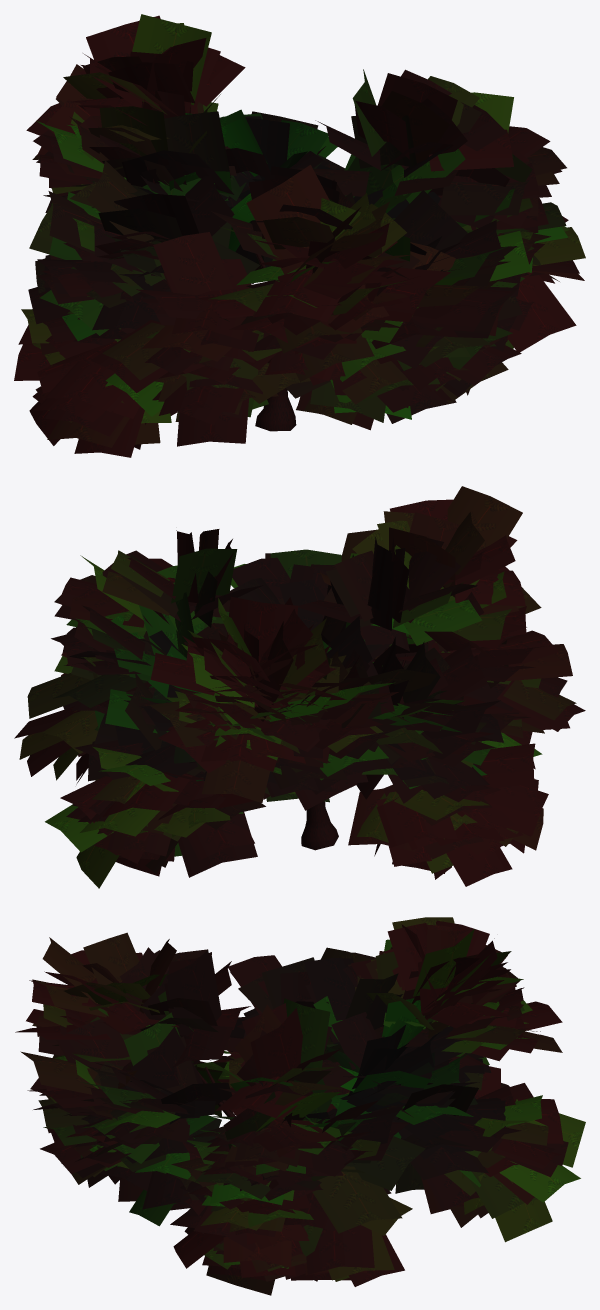
File: veg_rain1_far.glb
3 views of the same model, one above another, from view 1: azimuth 30°, elevation 25°; view 2: azimuth 150°, elevation 25°; view 3: azimuth 270°, elevation 25° (orthographic). The views are drawn at different scales.
Visible parts, largest first — view 1: raintree_1; view 2: raintree_1; view 3: raintree_1.
Part boxes in pixels (<box>): raintree_1: <box>14,14,585,457</box>; raintree_1: <box>14,486,585,888</box>; raintree_1: <box>15,917,585,1295</box>.
Bounding box in the file's own units: 20.25 × 12.38 × 21.91.
Materials: 2 (2 with a texture image).
